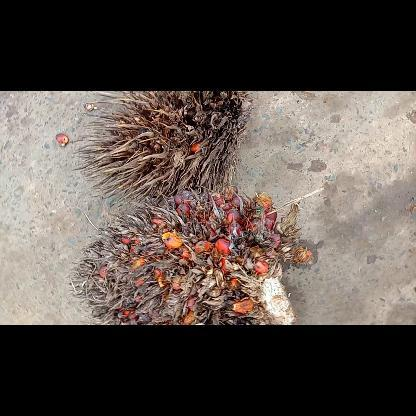Janjang kosong: (72, 90, 252, 209)
Terlalu masak: (66, 186, 312, 324)
